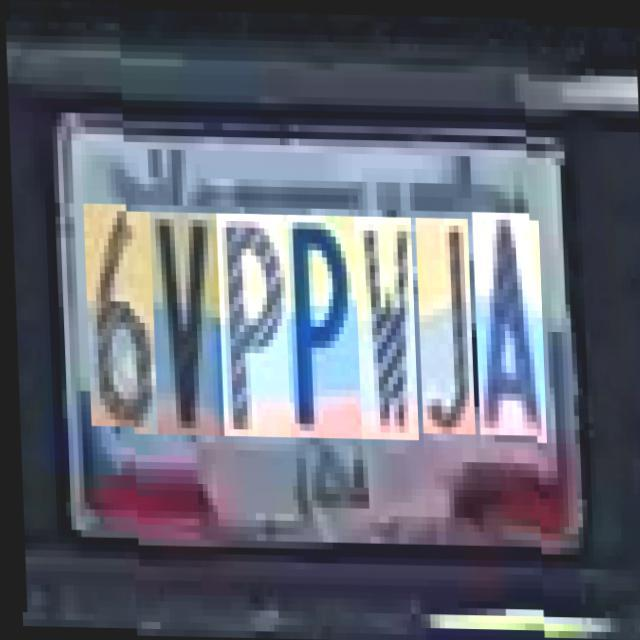6: (82, 210, 155, 434)
A: (471, 210, 544, 433)
J: (414, 216, 472, 432)
P: (282, 213, 358, 438), (215, 212, 288, 436)
V: (148, 211, 222, 435)
W: (352, 215, 416, 438)
